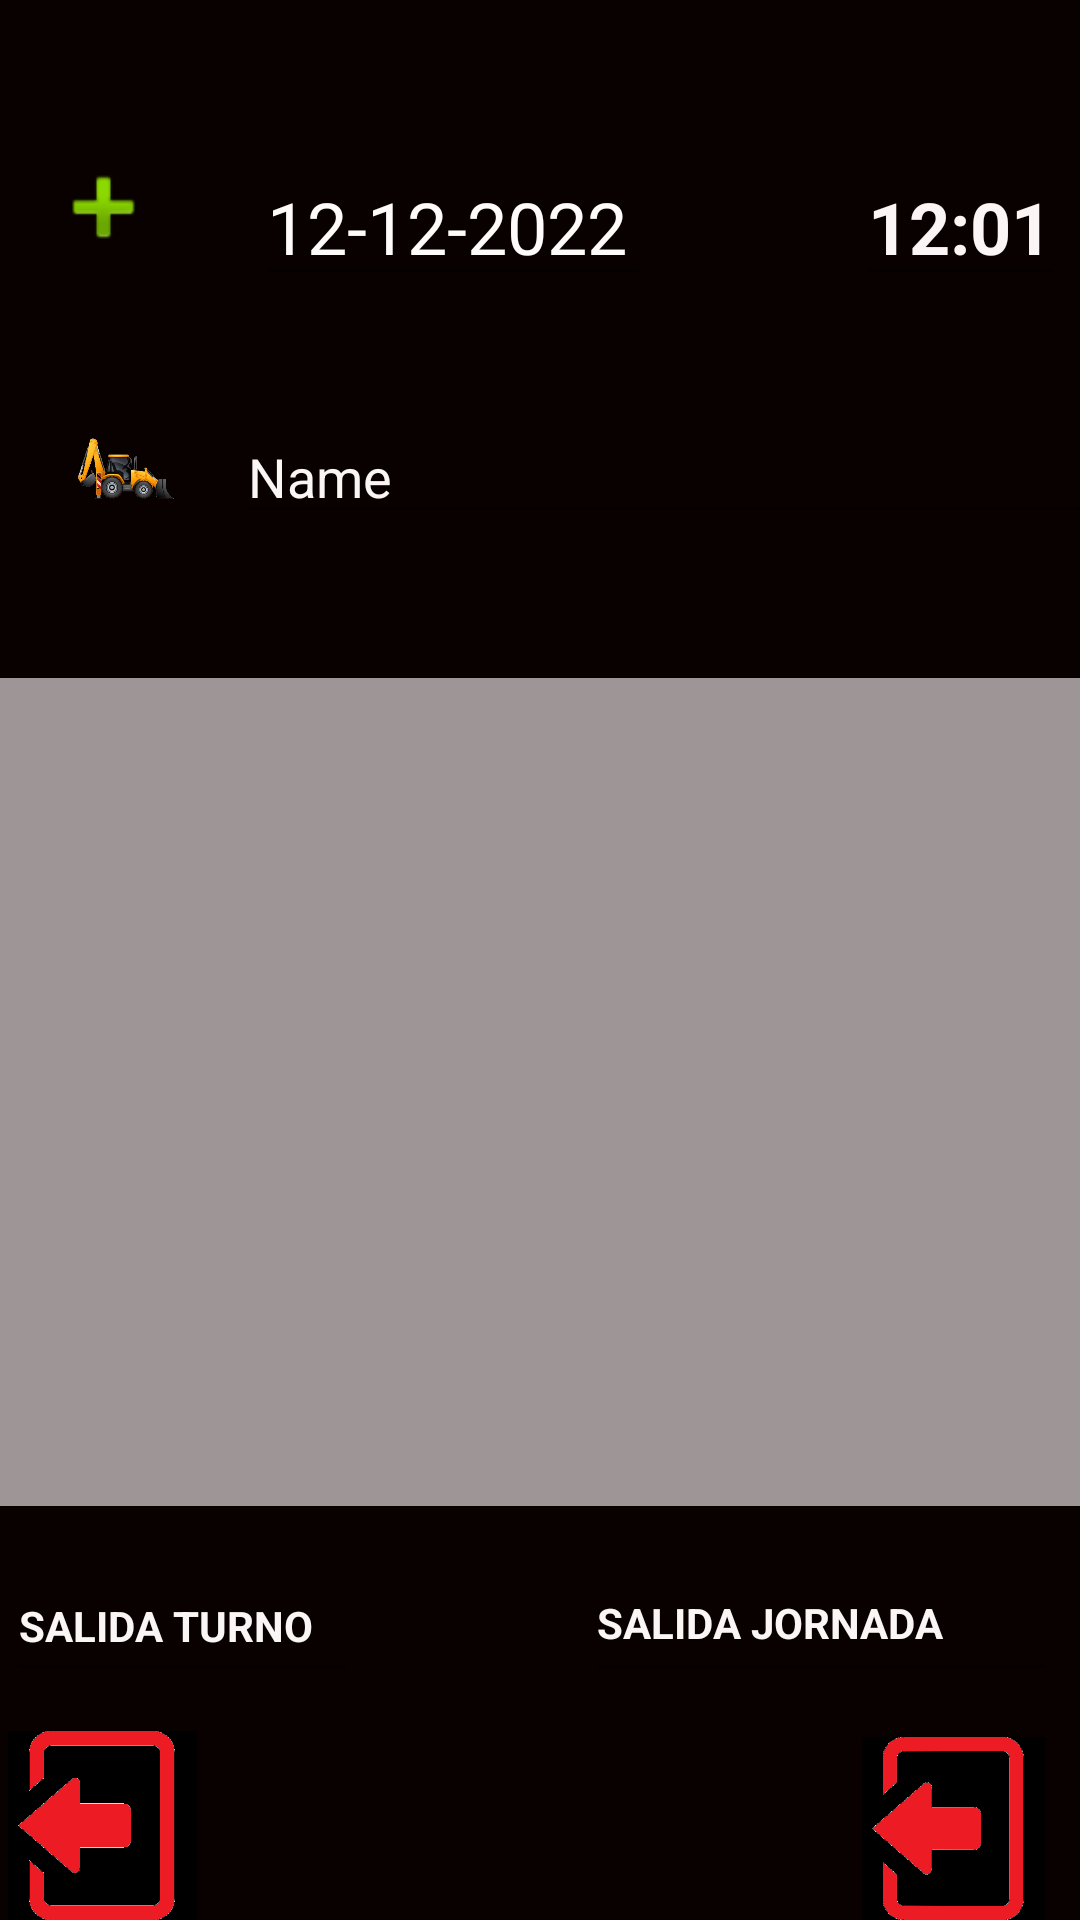

Where icons sit on this 1080w x 1920h app screen, as (x1, y1, x2, y2):
add: (72, 176, 135, 238)
maquinaria type: (78, 438, 174, 499)
